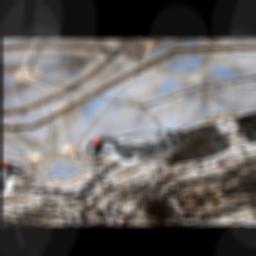Woodpecker: (76, 108, 231, 178)
